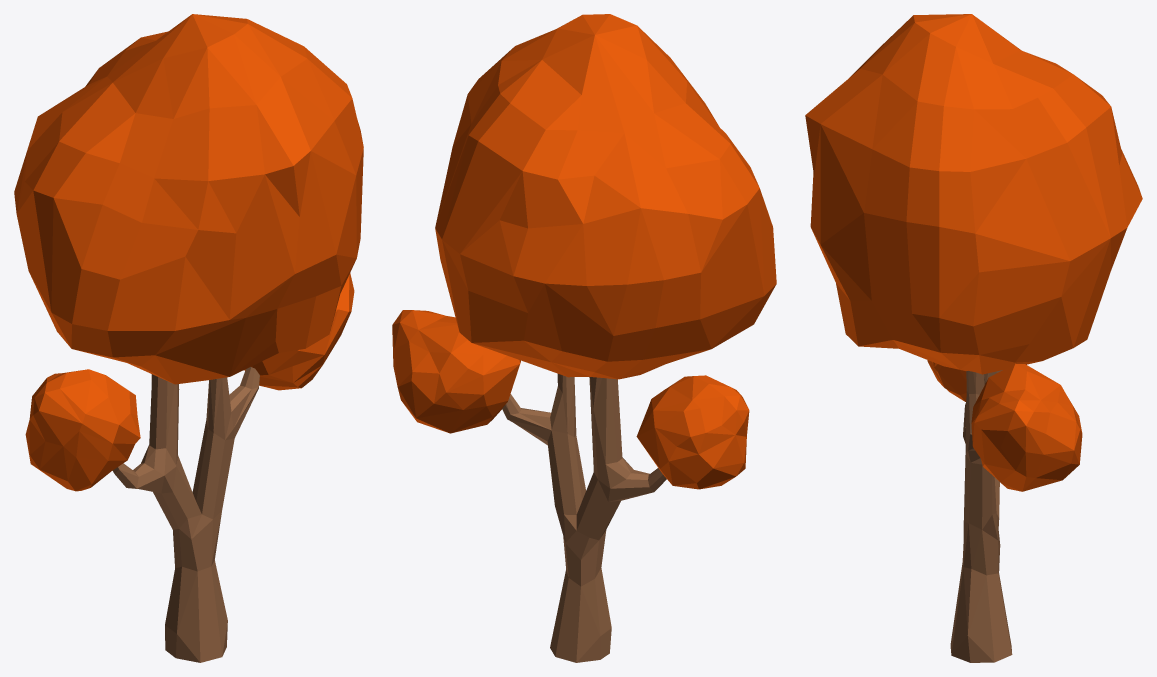
File: tree-autumn-complete-3-007.glb
3 renders of one model, left to right at view 1: azimuth 30°, elevation 25°; view 2: azimuth 150°, elevation 25°; view 3: azimuth 270°, elevation 25°, orthographic. The views are drawn at different scales.
Visible parts, largest first — view 1: TREE 3.003_396, TREE 3.002_397; view 2: TREE 3.003_396, TREE 3.002_397; view 3: TREE 3.003_396, TREE 3.002_397.
Boxes of the visible parts, bbox=[...] form: TREE 3.003_396: bbox=[14, 14, 363, 491]; TREE 3.002_397: bbox=[112, 367, 259, 662]; TREE 3.003_396: bbox=[392, 14, 776, 489]; TREE 3.002_397: bbox=[502, 374, 666, 662]; TREE 3.003_396: bbox=[805, 14, 1142, 491]; TREE 3.002_397: bbox=[950, 370, 1012, 662].
Size of the model in its own units: 1.04 by 1.86 by 0.8969.
